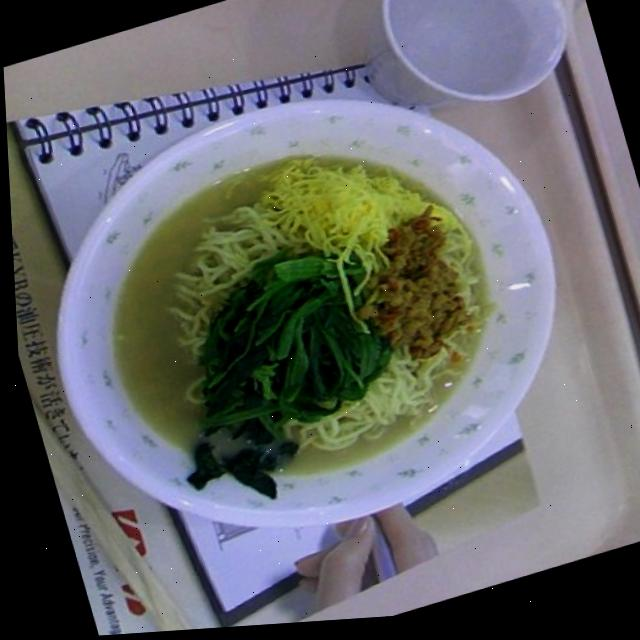面条主食: (3, 39, 609, 588)
